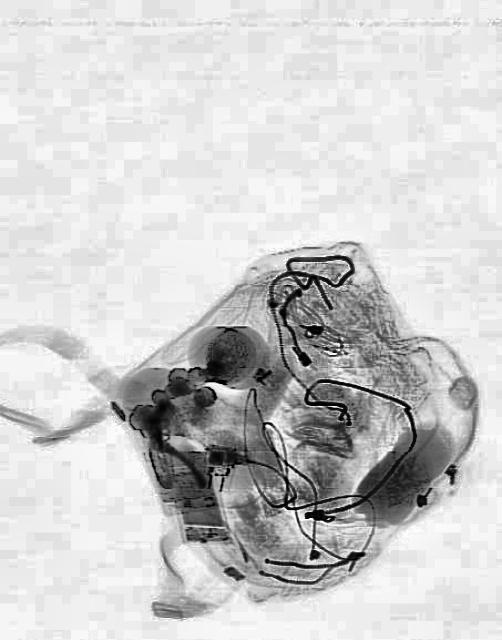Pliers: (130, 406, 206, 508)
